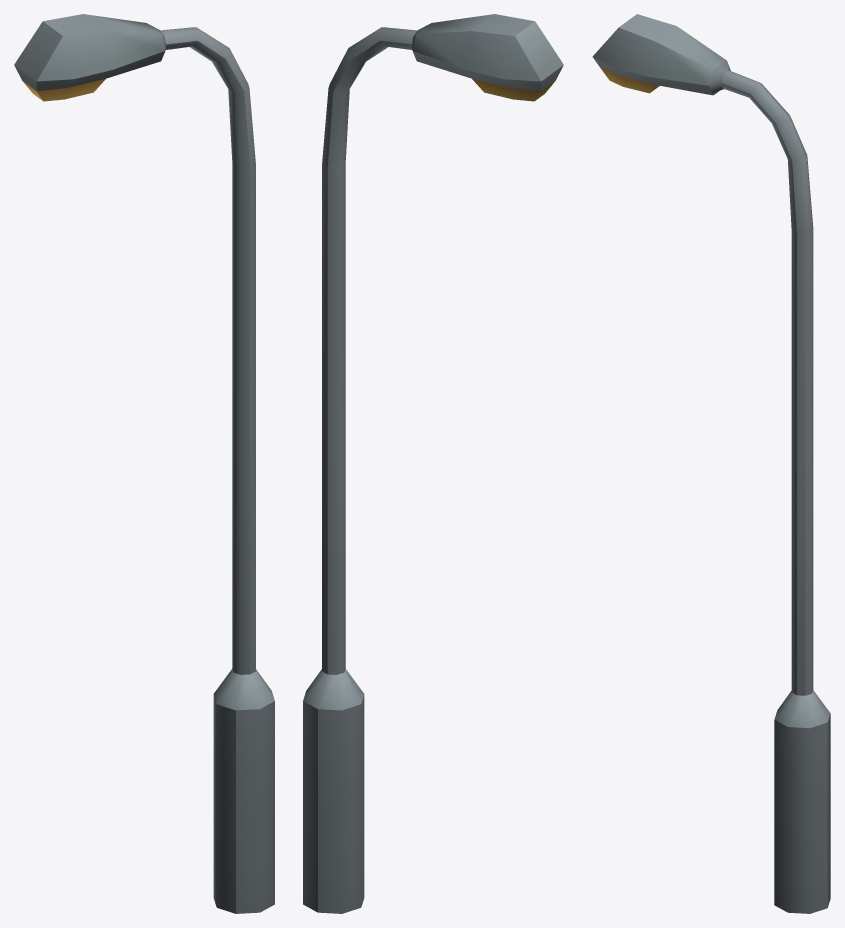
The model's file is streetlight.glb.
3 views of the same model, side by side, from view 1: azimuth 30°, elevation 25°; view 2: azimuth 150°, elevation 25°; view 3: azimuth 330°, elevation 25° (orthographic). The views are drawn at different scales.
Parts seen in each view (by area): view 1: streetlight; view 2: streetlight; view 3: streetlight.
Part boxes in pixels (x1,y1,x2,y2): streetlight: (14, 14, 274, 913); streetlight: (303, 14, 563, 913); streetlight: (592, 14, 830, 913).
Bounding box in the file's own units: 0.2693 × 0.9599 × 0.069.
1 material, 1 textured.
